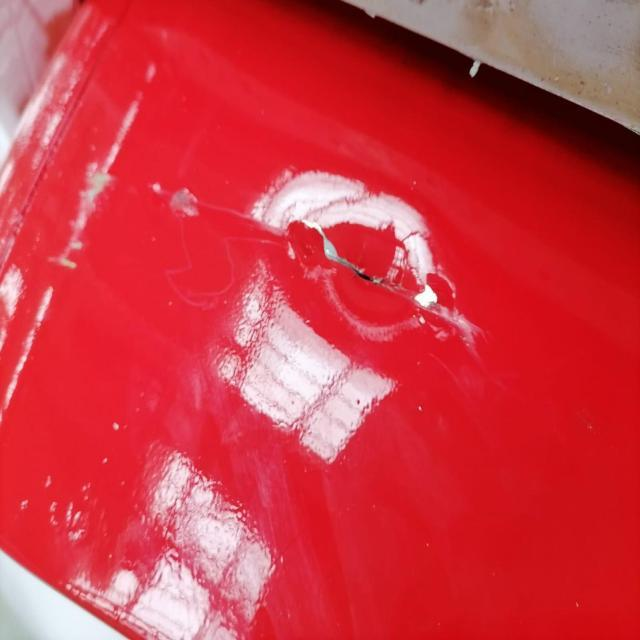crack: (176, 170, 532, 376)
